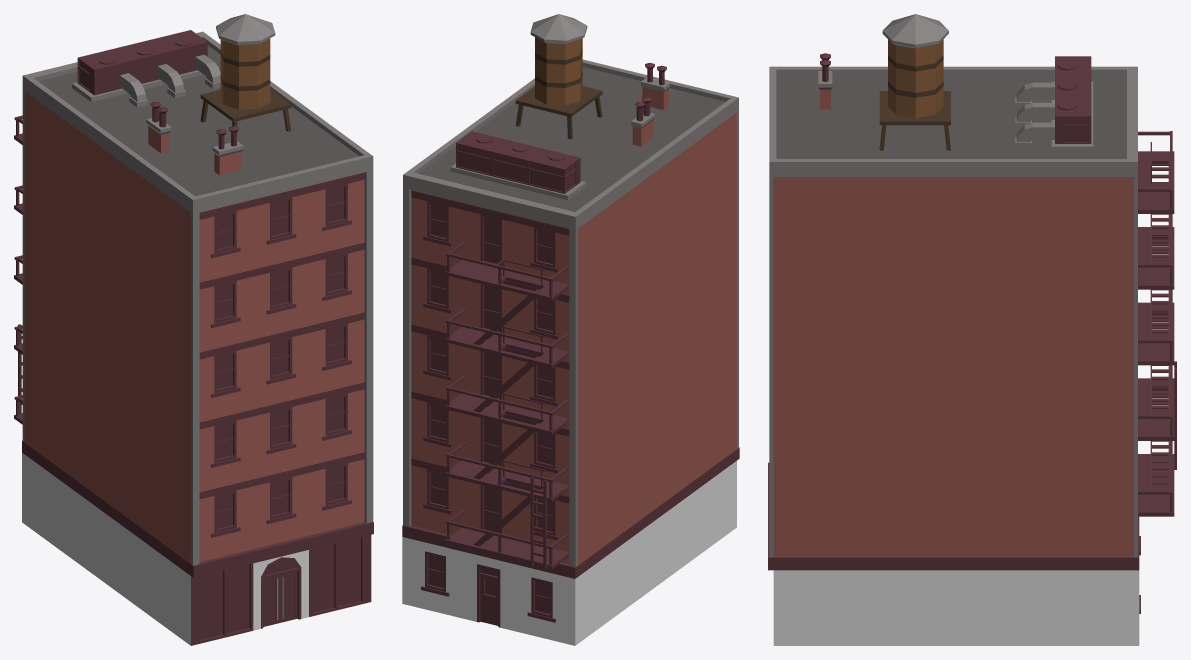
File: building-block-5floor-short.fbx
3 views of the same model, side by side, from view 1: azimuth 30°, elevation 25°; view 2: azimuth 150°, elevation 25°; view 3: azimuth 270°, elevation 25° (orthographic). The views are drawn at different scales.
Visible parts, largest first — view 1: building-block-5floor-short; view 2: building-block-5floor-short; view 3: building-block-5floor-short.
Part boxes in pixels (left/top/right/bottom): building-block-5floor-short: left=14, top=14, right=373, bottom=645; building-block-5floor-short: left=402, top=14, right=739, bottom=645; building-block-5floor-short: left=768, top=14, right=1176, bottom=645.
Bounding box in the file's own units: 8.1 × 23.81 × 14.7.
